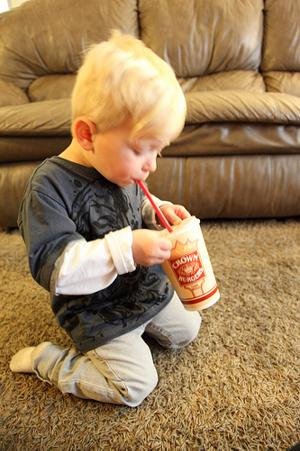person: (8, 29, 204, 408)
